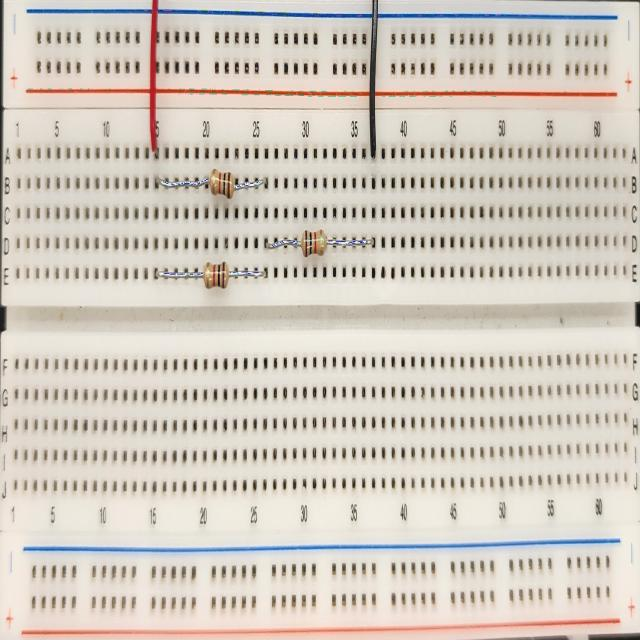capacitor: (203, 253, 229, 296), (209, 160, 236, 200), (301, 224, 329, 261)
